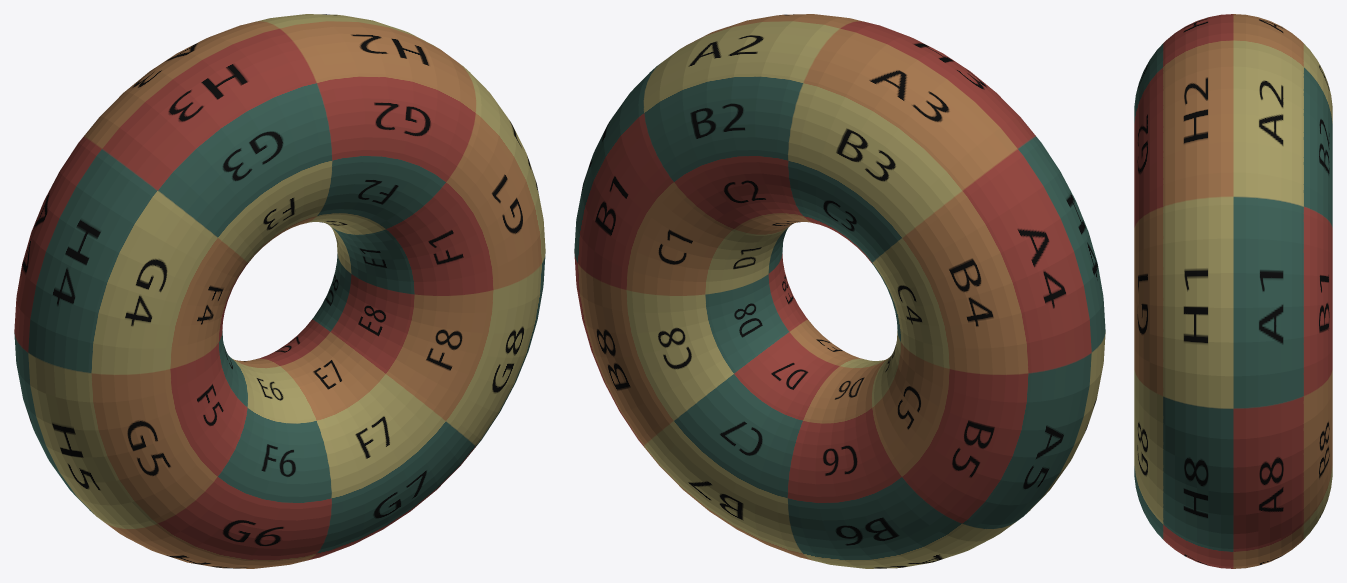
File: texture_torus_R4_r19.glb
The picture shows the model from 3 angles, left to right: view 1: azimuth 30°, elevation 25°; view 2: azimuth 150°, elevation 25°; view 3: azimuth 270°, elevation 25°; orthographic projection. The views are drawn at different scales.
Visible parts, largest first — view 1: world; view 2: world; view 3: world.
Part boxes in pixels (box(x1,y1,x2,y2)): world: box(14, 14, 545, 568); world: box(574, 14, 1105, 568); world: box(1134, 14, 1332, 568).
Bounding box in the file's own units: 19.73 × 19.69 × 7.05.
Materials: 1 (1 with a texture image).
